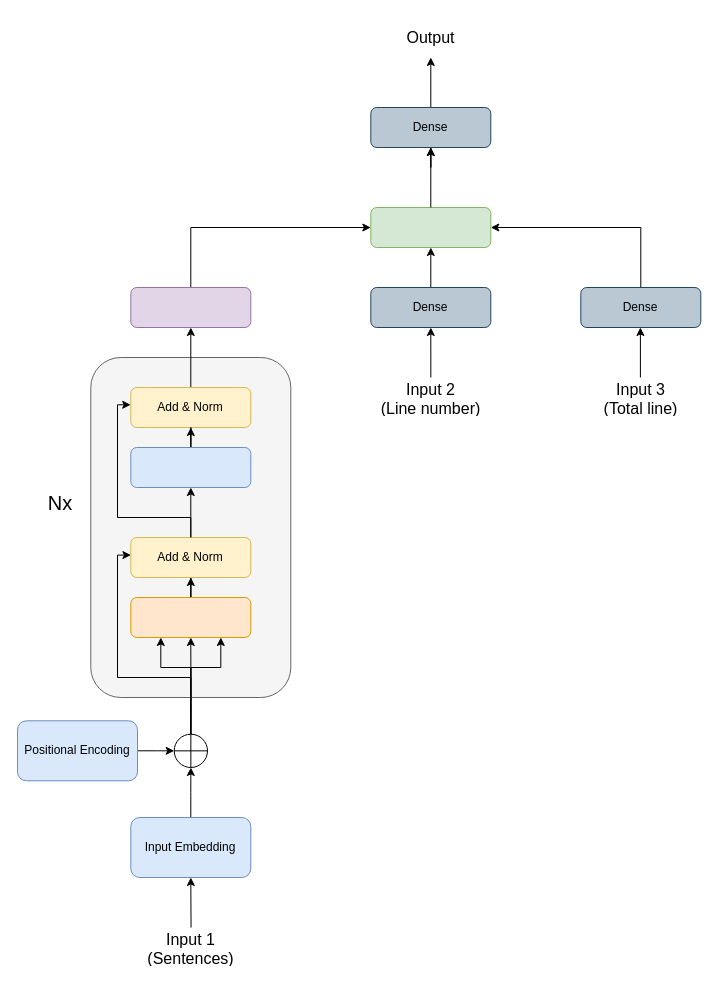
Image size: 719x984. Some labels were removed from this diagram. The centre of each missing label's shape, as x and y in pixels:
"Concatenate" belongs at point 430,227.
"Feed Forward" belongs at point 190,467.
"Multi-head Attention" belongs at point 190,617.
"Pooling 1D" belongs at point 190,307.
